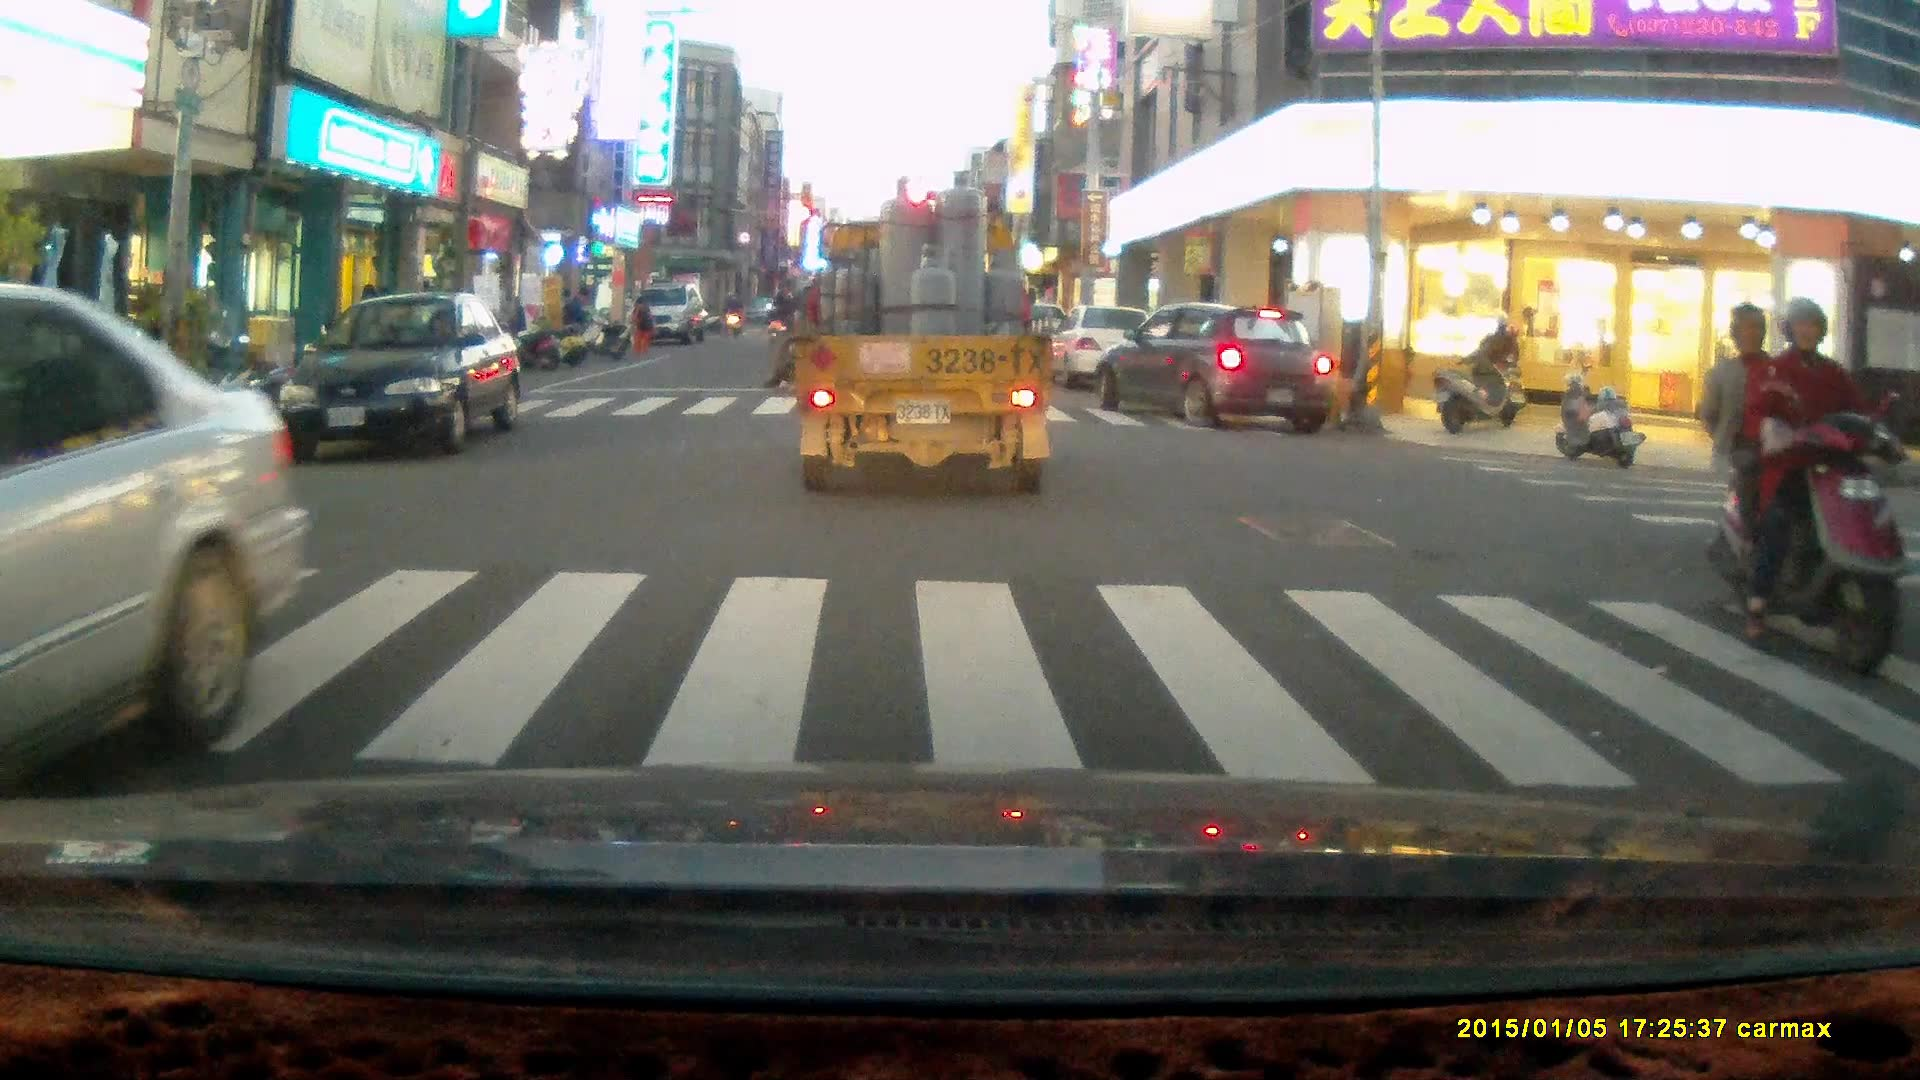pedestrian: (560, 285, 589, 352), (627, 295, 651, 355)
rider: (1702, 293, 1898, 679), (1467, 309, 1526, 428)
vehicle: (1, 295, 307, 803), (790, 166, 1064, 494), (285, 292, 523, 457), (1094, 304, 1331, 431), (1050, 307, 1170, 396), (627, 280, 702, 340)
